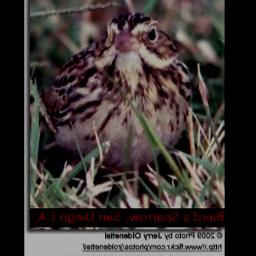Sparrow: (41, 10, 197, 203)
